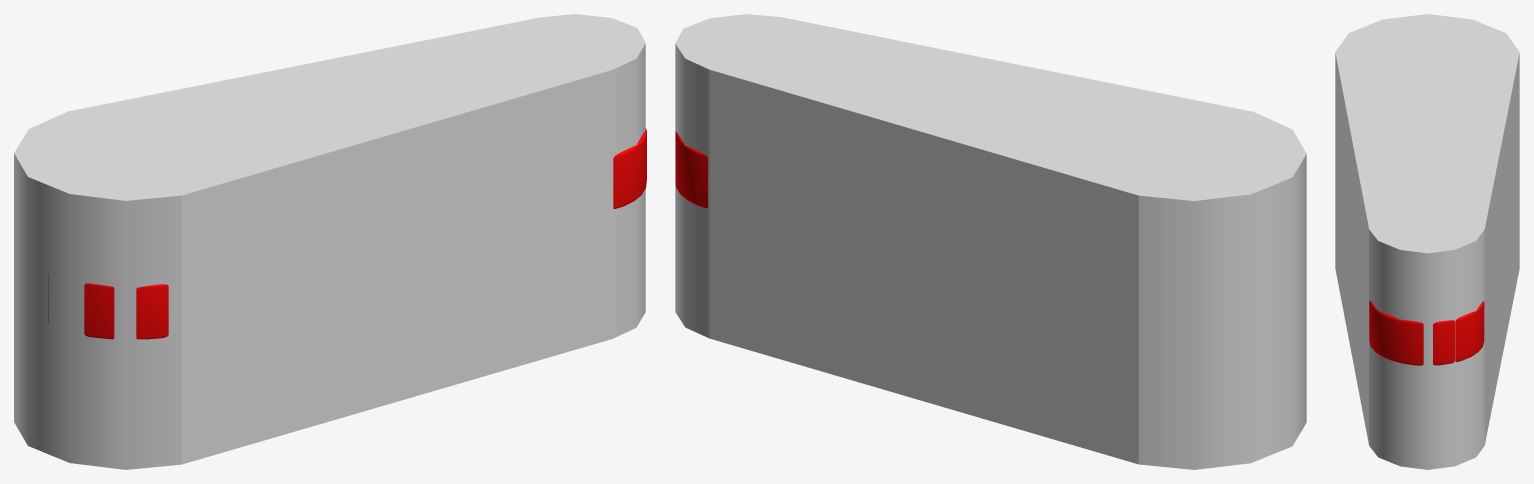
Rendered from Flipper.fbx.
3 views of the same model, side by side, from view 1: azimuth 30°, elevation 25°; view 2: azimuth 150°, elevation 25°; view 3: azimuth 270°, elevation 25° (orthographic). The views are drawn at different scales.
Visible parts, largest first — view 1: Flipper COL, Flipper002; view 2: Flipper COL, Flipper002; view 3: Flipper COL, Flipper002.
Part boxes in pixels (bbox=[...]): Flipper COL: bbox=[14, 14, 645, 469]; Flipper002: bbox=[48, 128, 646, 339]; Flipper COL: bbox=[675, 14, 1306, 469]; Flipper002: bbox=[675, 132, 707, 208]; Flipper COL: bbox=[1335, 14, 1519, 469]; Flipper002: bbox=[1369, 301, 1484, 365].
Bounding box in the file's own units: 9.84 × 4.15 × 3.2.
